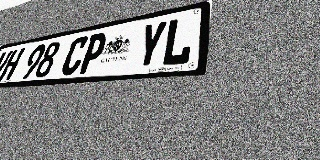8: (33, 41, 63, 78)
9: (19, 43, 48, 79)
C: (59, 35, 90, 76)
H: (0, 48, 25, 81)
L: (160, 15, 196, 67)
P: (77, 32, 109, 74)
V: (0, 50, 14, 82)
Y: (133, 20, 168, 69)
